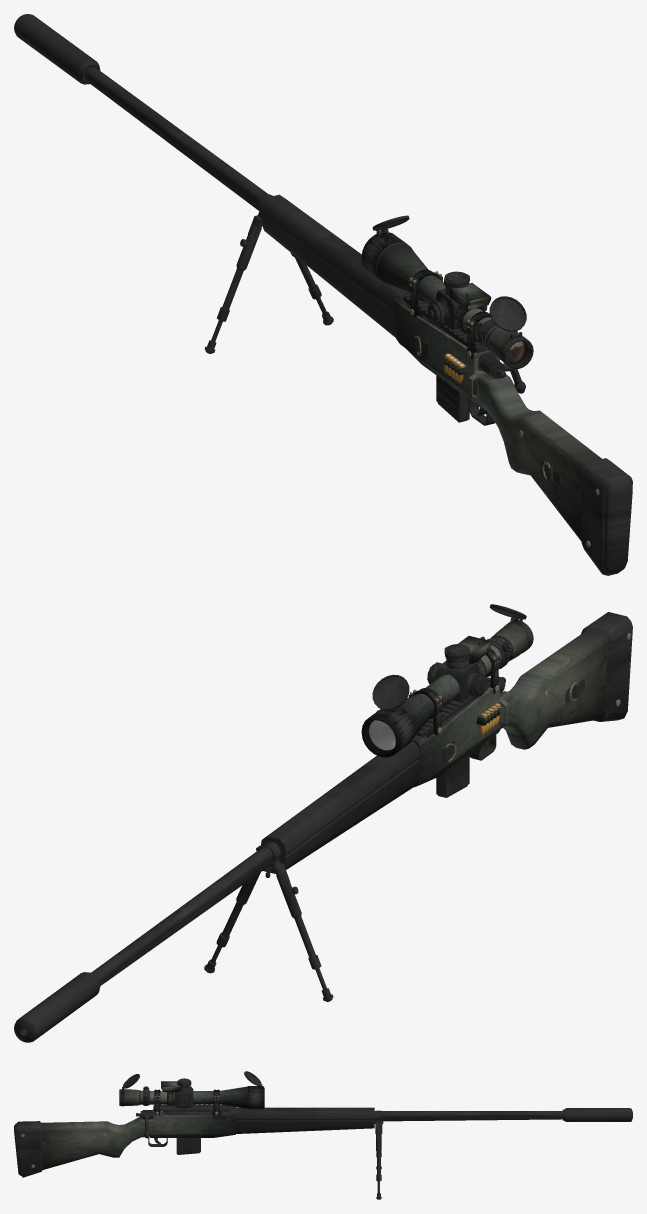
The model's file is USR BOLT.fbx.fbx.
3 views of the same model, one above another, from view 1: azimuth 30°, elevation 25°; view 2: azimuth 150°, elevation 25°; view 3: azimuth 270°, elevation 25° (orthographic). The views are drawn at different scales.
Parts seen in each view (by area): view 1: polySurface619; view 2: polySurface619; view 3: polySurface619.
Part boxes in pixels (box(x1,y1,x2,y2)): polySurface619: box(14, 14, 632, 575); polySurface619: box(14, 604, 632, 1042); polySurface619: box(14, 1071, 632, 1199).
Size of the model in its own units: 6.57 by 10.68 by 53.34.
Materials: 14 (13 with a texture image).
